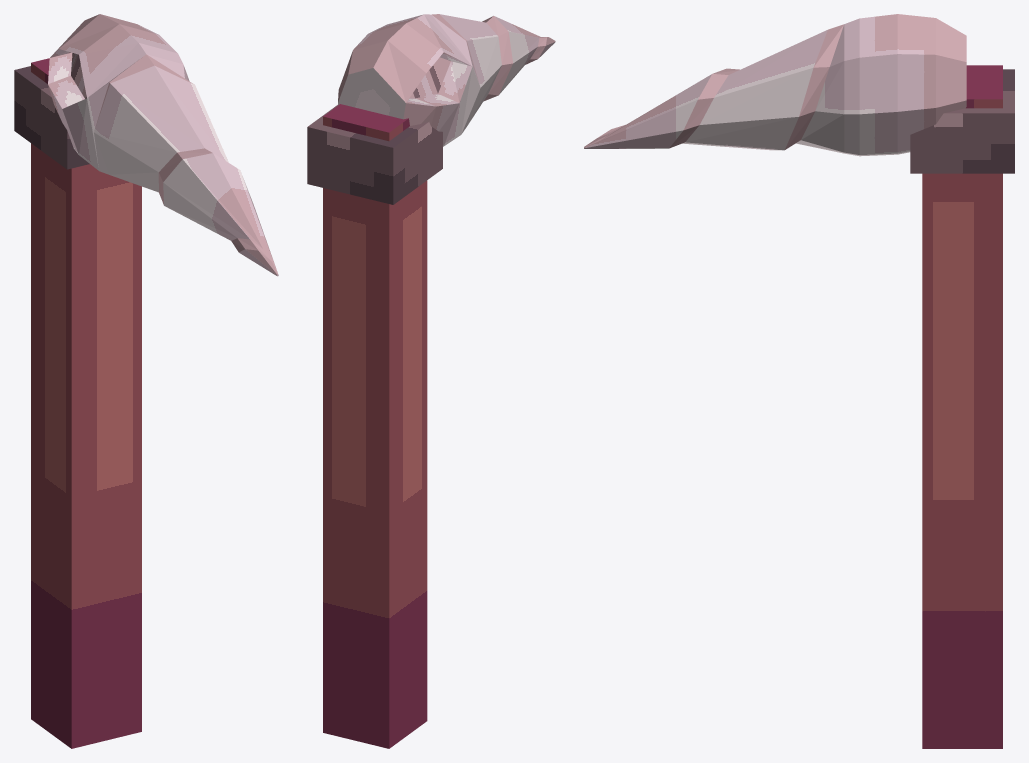
Rendered from seashell_hoe.obj.
The picture shows the model from 3 angles, left to right: view 1: azimuth 30°, elevation 25°; view 2: azimuth 150°, elevation 25°; view 3: azimuth 270°, elevation 25°; orthographic projection. The views are drawn at different scales.
Visible parts, largest first — view 1: shaft, two_broad_helical_whorl_shoulders, large_body_whorl_with_tapered_side_mouth, seated_shell_saddle, short_lateral_aperture_with_shell_wall; view 2: shaft, large_body_whorl_with_tapered_side_mouth, seated_shell_saddle, two_broad_helical_whorl_shoulders, short_lateral_aperture_with_shell_wall; view 3: shaft, two_broad_helical_whorl_shoulders, large_body_whorl_with_tapered_side_mouth, seated_shell_saddle.
Part boxes in pixels (box(x1,y1,x2,y2)): shaft: box(31, 58, 141, 748); two_broad_helical_whorl_shoulders: box(94, 54, 278, 276); large_body_whorl_with_tapered_side_mouth: box(48, 14, 182, 174); seated_shell_saddle: box(14, 66, 89, 169); short_lateral_aperture_with_shell_wall: box(48, 49, 86, 108); shaft: box(323, 104, 427, 748); large_body_whorl_with_tapered_side_mouth: box(338, 14, 480, 146); seated_shell_saddle: box(307, 104, 442, 204); two_broad_helical_whorl_shoulders: box(432, 14, 555, 126); short_lateral_aperture_with_shell_wall: box(406, 52, 472, 106); shaft: box(922, 65, 1002, 748); two_broad_helical_whorl_shoulders: box(584, 24, 844, 153); large_body_whorl_with_tapered_side_mouth: box(844, 14, 966, 156); seated_shell_saddle: box(910, 69, 1014, 173).
Bounding box in the file's own units: 0.2023 × 1.23 × 0.6687.
